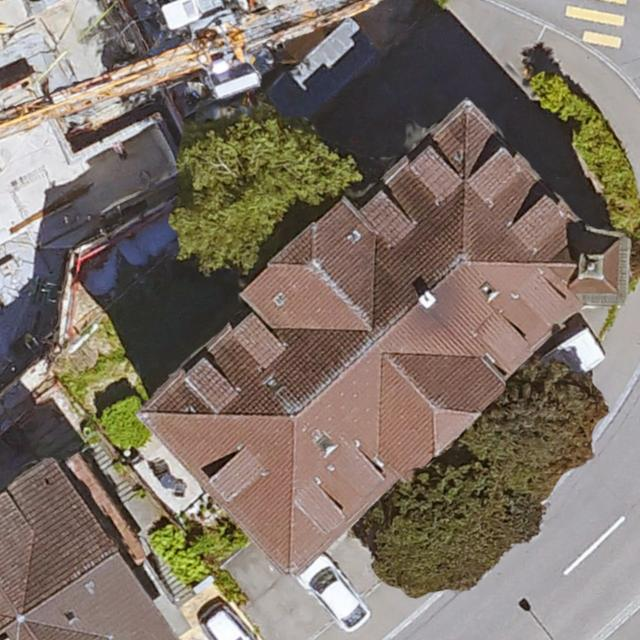tree: (363, 361, 602, 594), (167, 112, 354, 272)
